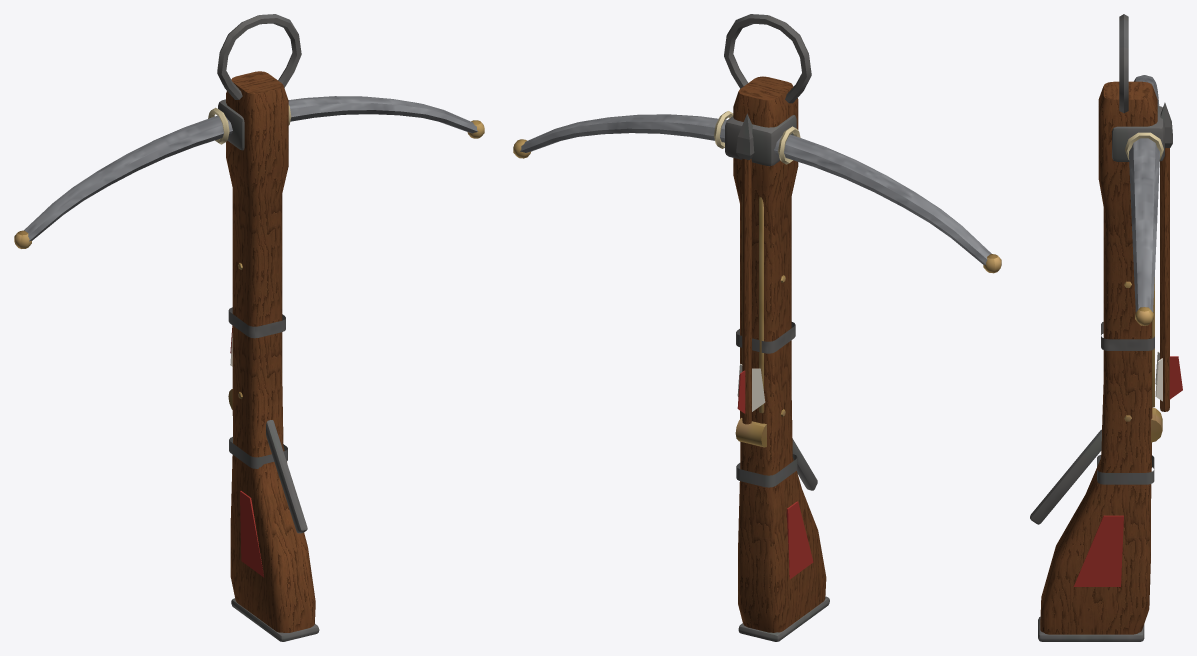
File: crossbow.glb
3 renders of one model, left to right at view 1: azimuth 30°, elevation 25°; view 2: azimuth 150°, elevation 25°; view 3: azimuth 270°, elevation 25°, orthographic. The views are drawn at different scales.
Visible parts, largest first — view 1: crossbow; view 2: crossbow, bolt; view 3: crossbow, bolt.
Part boxes in pixels (box(x1,y1,x2,y2)): crossbow: box(14, 14, 484, 641); crossbow: box(513, 14, 1001, 641); bolt: box(736, 113, 765, 424); crossbow: box(1030, 14, 1164, 641); bolt: box(1155, 102, 1182, 411).
Bounding box in the file's own units: 0.6828 × 0.8275 × 0.1868.
7 materials, 4 textured.
